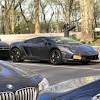Lamborghini: (10, 37, 98, 64)
